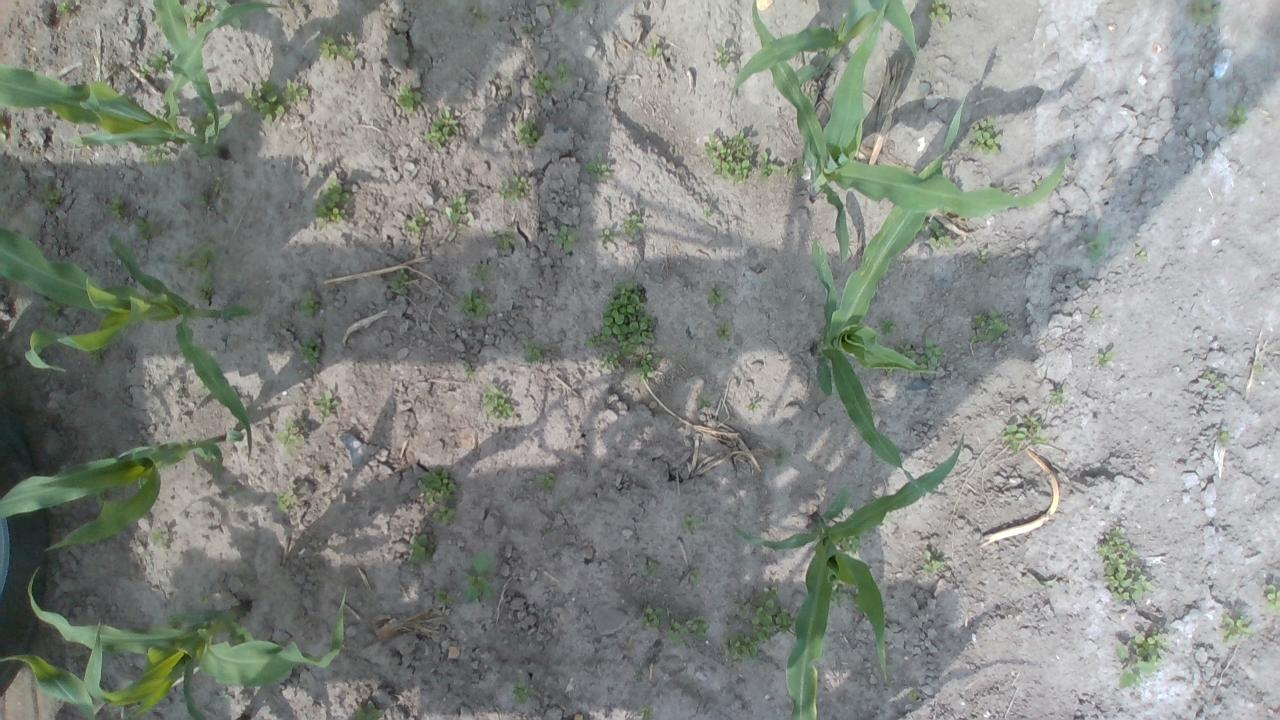Maize: (748, 0, 1074, 268), (734, 436, 962, 720), (812, 90, 966, 494), (0, 228, 254, 460), (0, 563, 344, 720), (0, 0, 281, 166), (0, 426, 242, 552), (730, 0, 890, 104), (819, 0, 922, 69)
Weeds: (582, 279, 662, 385), (722, 586, 795, 660), (1096, 526, 1150, 602), (242, 77, 310, 126), (172, 241, 220, 304), (1114, 626, 1161, 690), (704, 130, 754, 184), (312, 174, 350, 229), (458, 550, 496, 602), (1001, 415, 1047, 454), (422, 108, 460, 150), (418, 466, 456, 508), (964, 116, 1002, 156), (968, 309, 1008, 344), (482, 384, 516, 424), (312, 31, 356, 61), (454, 290, 494, 322), (919, 218, 958, 249), (405, 532, 436, 571), (274, 420, 308, 454), (1220, 612, 1254, 643), (180, 0, 210, 33), (915, 338, 944, 369), (133, 216, 165, 244), (497, 175, 530, 202), (136, 52, 170, 78), (296, 334, 322, 368), (756, 148, 781, 182), (830, 580, 860, 608), (394, 85, 422, 114), (312, 388, 339, 418), (514, 115, 538, 148), (582, 152, 610, 180), (1188, 0, 1222, 23), (140, 142, 172, 166), (926, 0, 953, 28), (528, 70, 554, 99), (553, 225, 579, 254), (664, 620, 690, 648), (1084, 232, 1107, 263), (686, 615, 714, 639), (510, 682, 538, 706), (443, 194, 467, 221), (38, 182, 62, 209), (188, 112, 212, 139), (487, 226, 516, 248), (619, 213, 644, 238), (470, 260, 494, 286), (521, 338, 545, 364), (1224, 103, 1248, 129), (639, 606, 667, 628), (783, 156, 807, 180), (148, 524, 170, 550), (356, 701, 386, 720), (297, 288, 316, 318), (1261, 581, 1280, 610), (921, 550, 946, 572), (389, 268, 409, 295), (406, 213, 430, 235), (432, 506, 457, 526), (636, 556, 658, 578), (535, 471, 558, 492), (1202, 372, 1228, 390), (644, 41, 666, 62), (470, 5, 490, 28), (104, 198, 124, 221), (211, 172, 229, 197), (839, 535, 860, 556), (552, 62, 570, 86), (680, 516, 704, 534), (878, 317, 898, 338), (706, 284, 724, 306), (276, 492, 295, 512), (716, 43, 730, 70), (974, 248, 991, 270), (556, 0, 584, 13), (448, 223, 467, 242), (597, 228, 615, 248), (716, 322, 733, 342), (772, 447, 789, 467), (1048, 388, 1065, 406), (434, 588, 454, 603), (55, 0, 75, 15), (900, 342, 915, 359), (197, 590, 212, 607), (1096, 352, 1114, 366), (1251, 357, 1264, 376), (1132, 245, 1147, 261), (632, 666, 646, 683), (460, 360, 473, 378), (637, 706, 653, 720), (697, 394, 713, 408), (689, 568, 702, 585), (802, 89, 816, 104), (746, 399, 760, 412), (1220, 430, 1230, 447), (194, 193, 207, 206), (0, 124, 8, 144), (702, 206, 714, 219), (226, 483, 238, 495), (910, 688, 920, 702), (1090, 310, 1100, 322), (154, 108, 164, 120), (558, 497, 568, 506), (544, 524, 554, 532)
